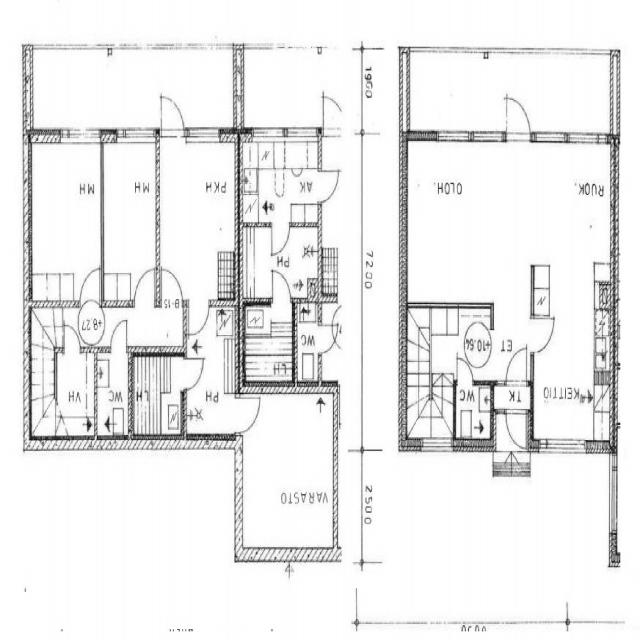door: (160, 91, 184, 142), (507, 93, 530, 141), (236, 398, 262, 432), (187, 300, 208, 341), (134, 266, 155, 306), (161, 266, 182, 306), (506, 408, 527, 448), (506, 346, 527, 386), (531, 318, 554, 352), (80, 269, 99, 306), (182, 359, 204, 390), (110, 319, 126, 352), (64, 320, 80, 352), (457, 354, 473, 386)
